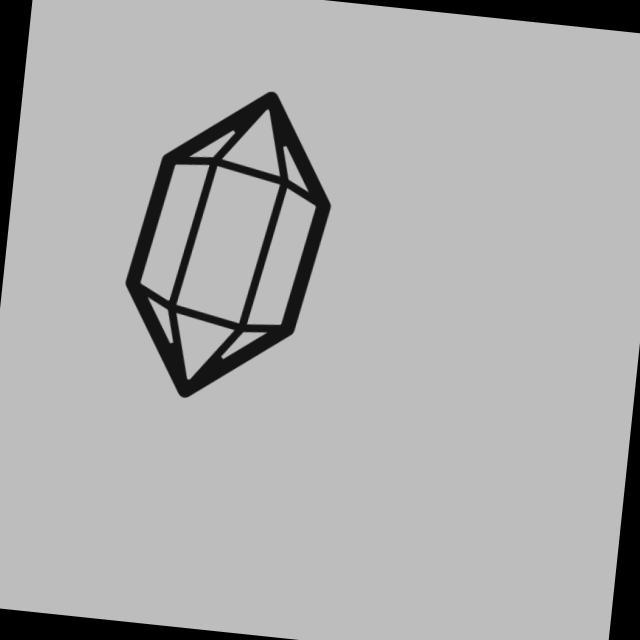crystal: (107, 71, 352, 420)
